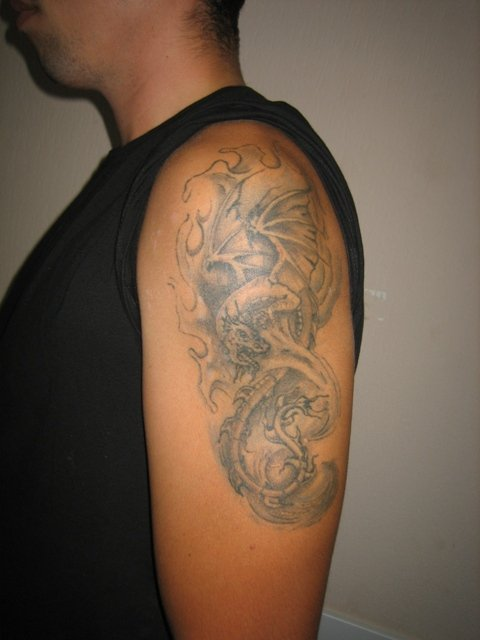tatu6_drakon: (156, 129, 368, 531)
